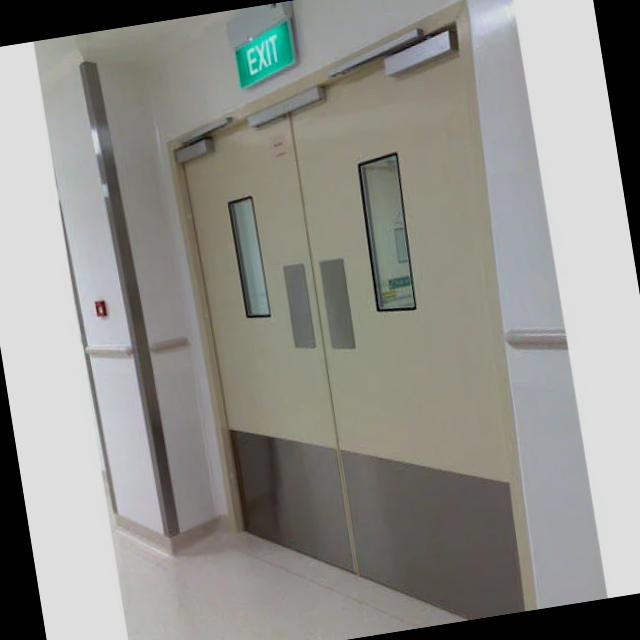door: (166, 0, 539, 619)
